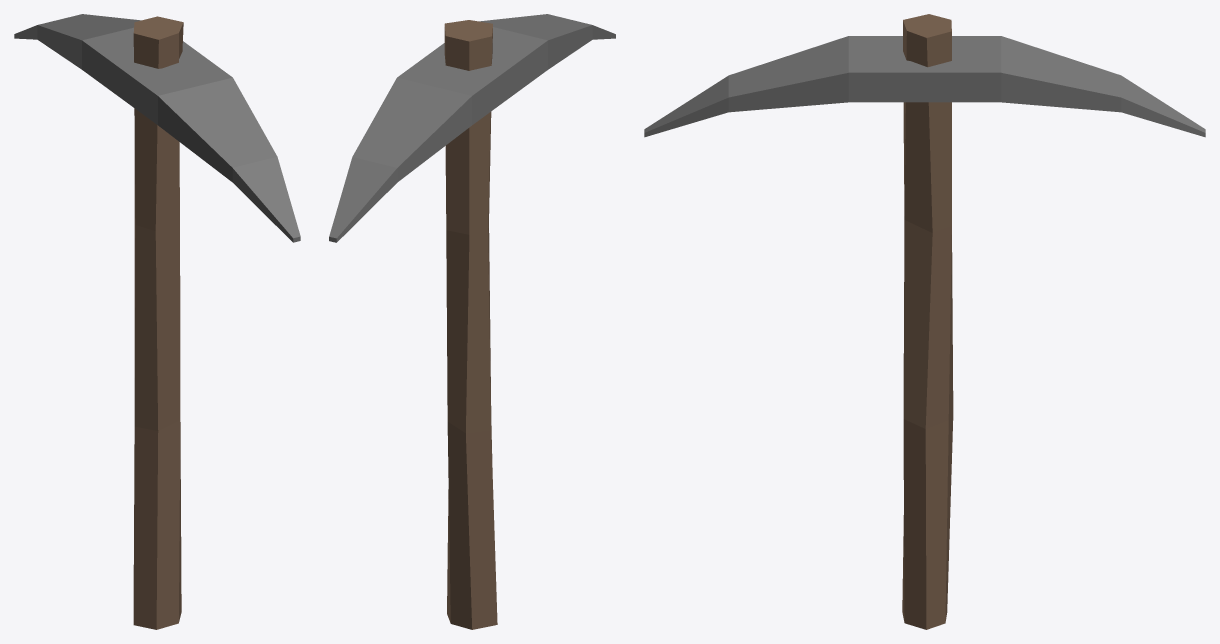
The model's file is enchantedforest_pickaxe.fbx.
The picture shows the model from 3 angles, left to right: view 1: azimuth 30°, elevation 25°; view 2: azimuth 150°, elevation 25°; view 3: azimuth 270°, elevation 25°; orthographic projection.
Visible parts, largest first — view 1: Cylinder.017; view 2: Cylinder.017; view 3: Cylinder.017.
Part boxes in pixels (left/top/right/bottom): Cylinder.017: left=14, top=14, right=300, bottom=629; Cylinder.017: left=329, top=14, right=615, bottom=629; Cylinder.017: left=644, top=14, right=1205, bottom=629.
Size of the model in its own units: 0.12 by 0.9 by 0.7722.
